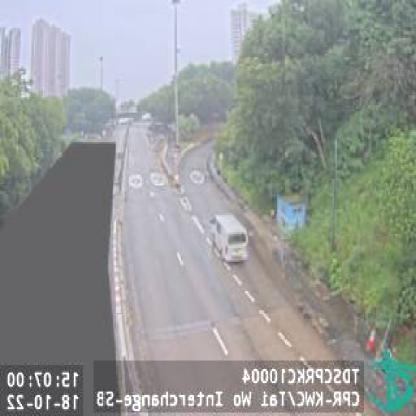Car: (210, 214, 251, 266)
